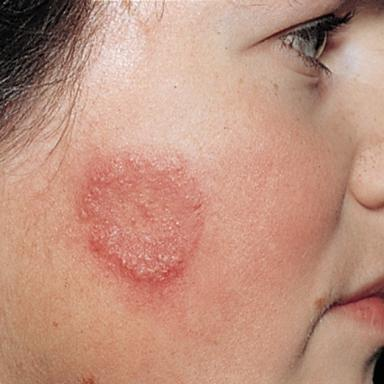Tinea-Corporis: (79, 151, 203, 283)
